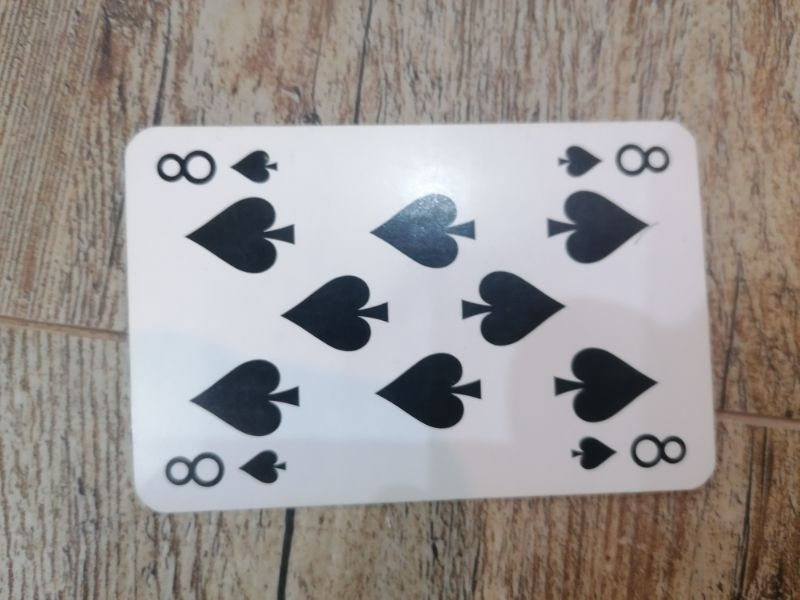8s: (157, 443, 299, 493), (149, 139, 281, 189), (566, 429, 690, 476), (550, 137, 673, 182)
